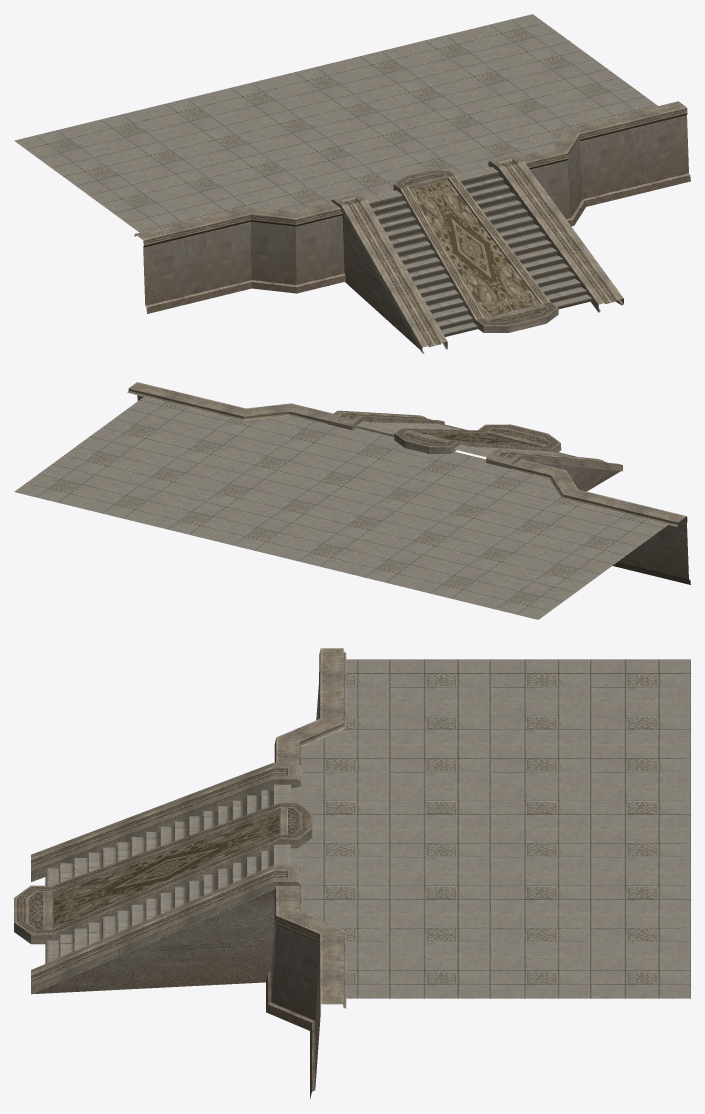
The model's file is cj_luoyang_huangcheng01_56_02_2670out.fbx.
3 renders of one model, top to bottom at view 1: azimuth 30°, elevation 25°; view 2: azimuth 150°, elevation 25°; view 3: azimuth 270°, elevation 25°, orthographic. The views are drawn at different scales.
Parts seen in each view (by area): view 1: 0000_cj_luoyang_huangcheng01, 0001_cj_luoyang_huangcheng01; view 2: 0000_cj_luoyang_huangcheng01, 0001_cj_luoyang_huangcheng01; view 3: 0000_cj_luoyang_huangcheng01, 0001_cj_luoyang_huangcheng01.
Part boxes in pixels (x1,y1,x2,y2): 0000_cj_luoyang_huangcheng01: (14, 14, 690, 353); 0001_cj_luoyang_huangcheng01: (365, 167, 592, 336); 0000_cj_luoyang_huangcheng01: (14, 382, 690, 619); 0001_cj_luoyang_huangcheng01: (357, 421, 576, 457); 0000_cj_luoyang_huangcheng01: (14, 648, 690, 1098); 0001_cj_luoyang_huangcheng01: (45, 784, 290, 963).
Bounding box in the file's own units: 33.44 × 4.81 × 26.88.
